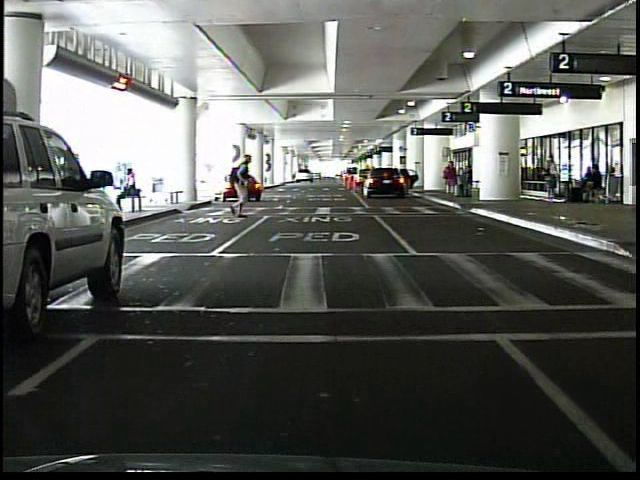person: (221, 154, 258, 221), (117, 167, 142, 213), (544, 153, 559, 201), (442, 160, 460, 199), (463, 165, 464, 199)
